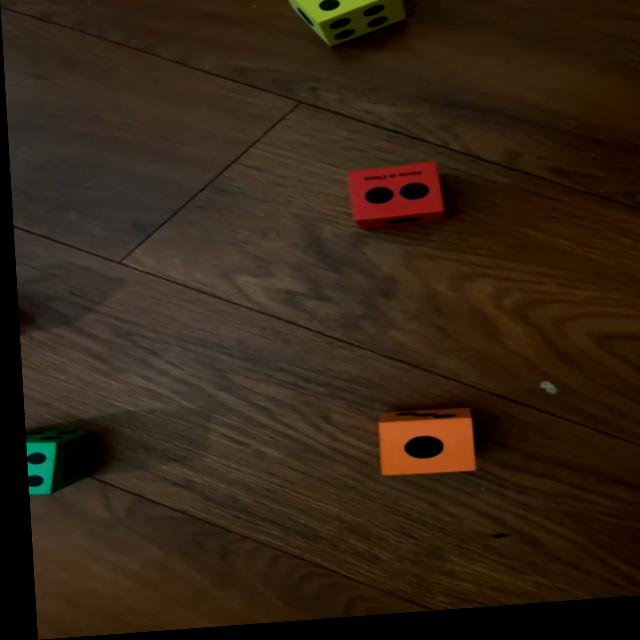red_block: (345, 167, 444, 236)
